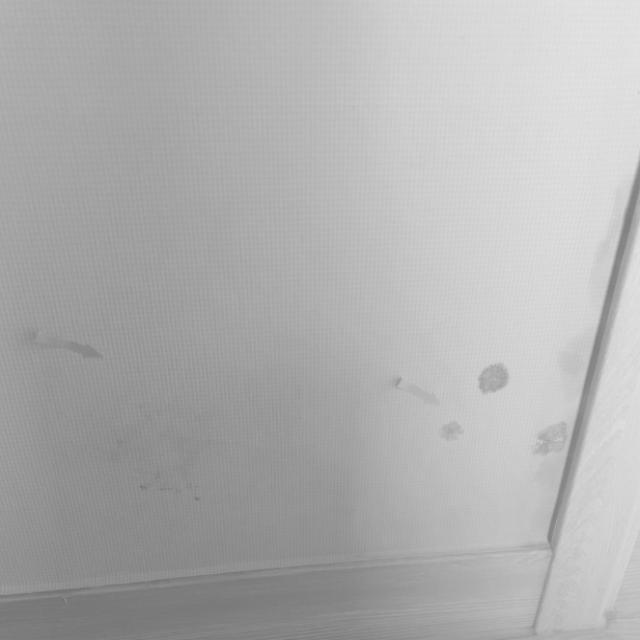stain marks: (438, 348, 571, 456), (117, 392, 212, 502)
